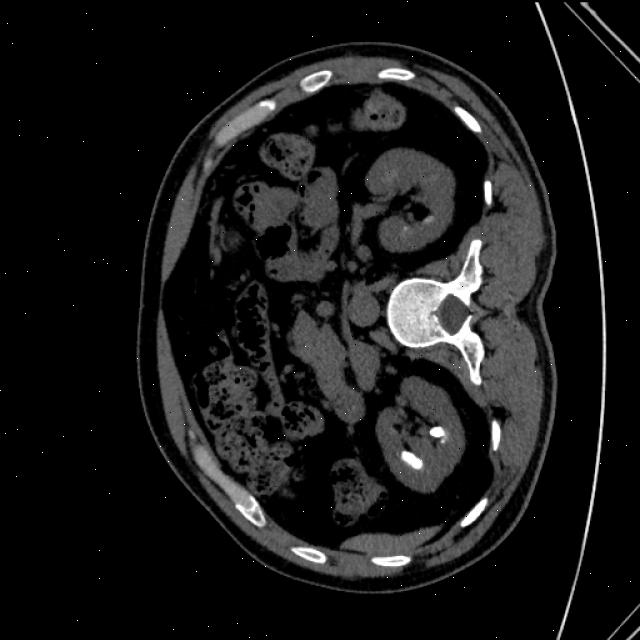kidneystone: (401, 451, 422, 469), (429, 424, 446, 442)
